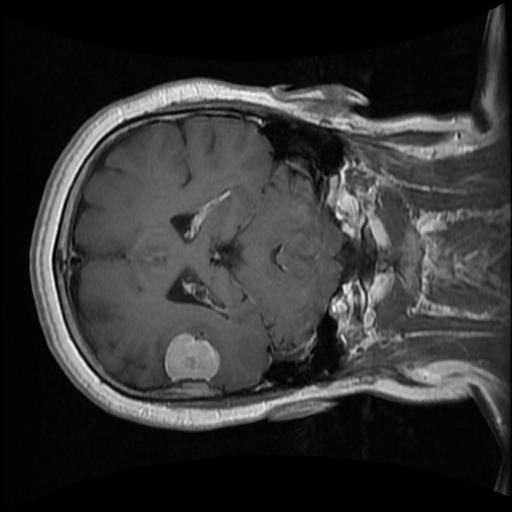meningioma: (162, 331, 219, 381)
